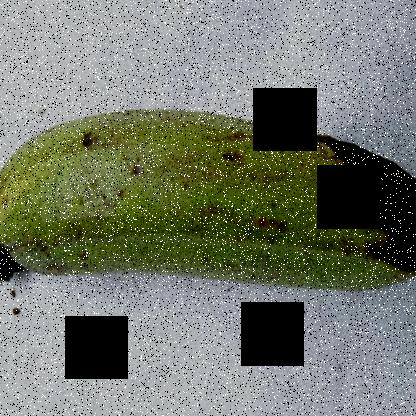rotten: (313, 122, 415, 290)
unripe: (0, 101, 335, 339)
